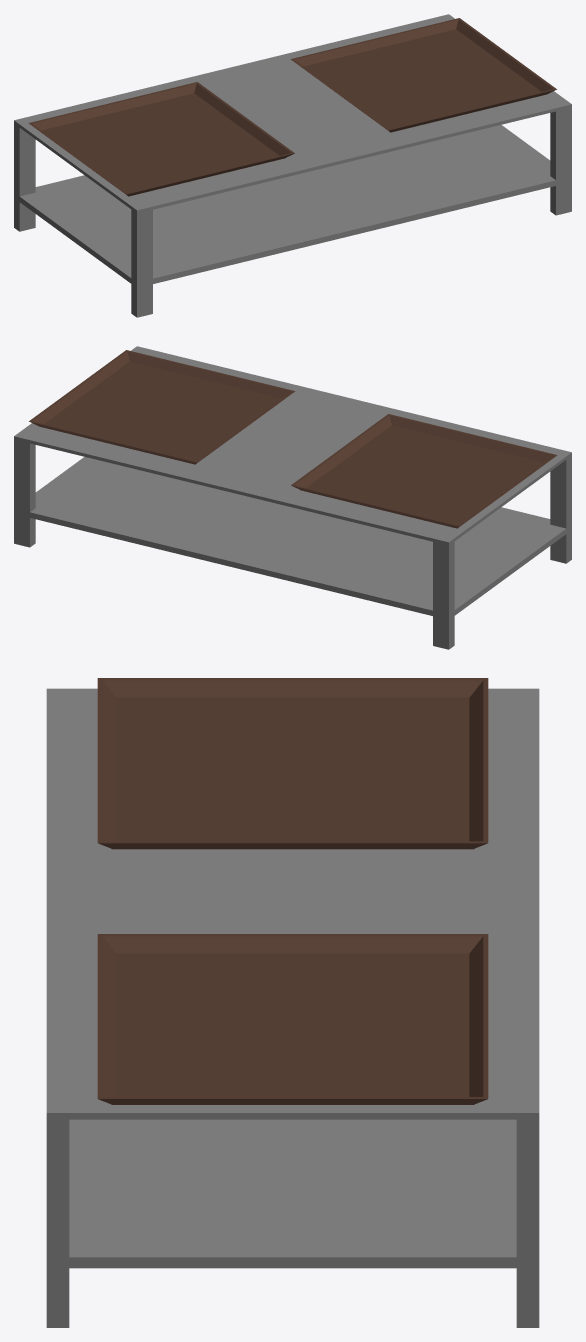
The model's file is table.fbx.
3 renders of one model, top to bottom at view 1: azimuth 30°, elevation 25°; view 2: azimuth 150°, elevation 25°; view 3: azimuth 270°, elevation 25°, orthographic. The views are drawn at different scales.
Visible parts, largest first — view 1: Table; view 2: Table; view 3: Table.
Part boxes in pixels (x1,y1,x2,y2): Table: [14, 14, 571, 317]; Table: [14, 346, 571, 649]; Table: [46, 678, 539, 1327].
Bounding box in the file's own units: 3.21 × 0.8 × 1.57.
